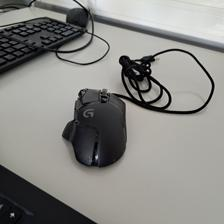mouse: (61, 86, 127, 169)
